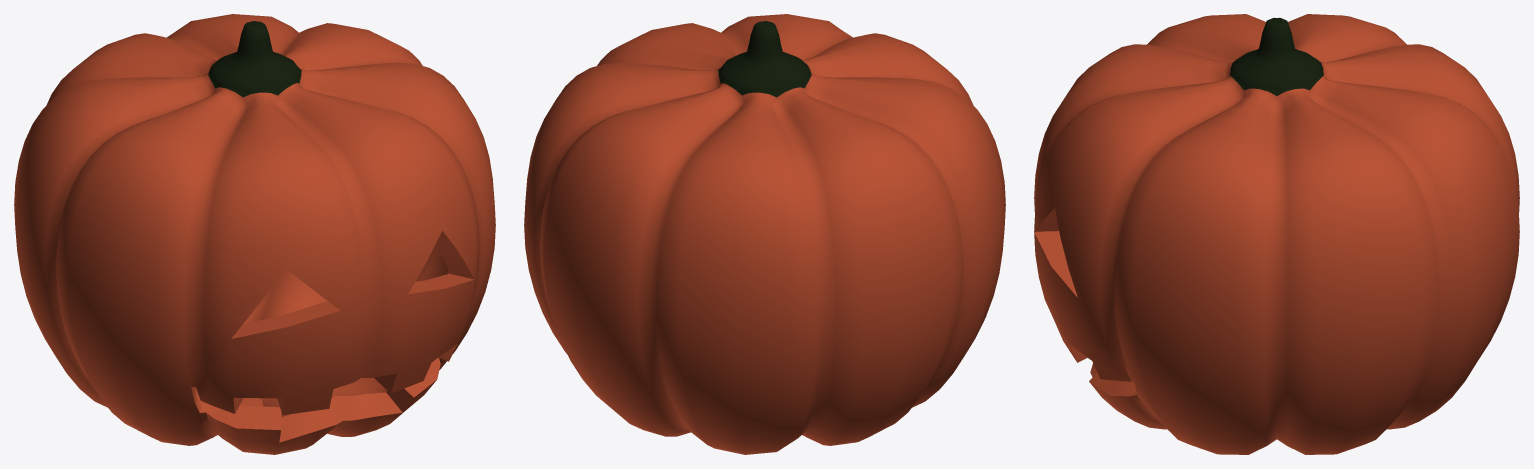
The model's file is pampkin.glb.
The picture shows the model from 3 angles, left to right: view 1: azimuth 30°, elevation 25°; view 2: azimuth 150°, elevation 25°; view 3: azimuth 270°, elevation 25°; orthographic projection.
Parts seen in each view (by area): view 1: Cube; view 2: Cube; view 3: Cube.
Part boxes in pixels (<box>): Cube: <box>14,14,495,454</box>; Cube: <box>524,14,1005,454</box>; Cube: <box>1034,14,1519,454</box>.
Bounding box in the file's own units: 0.2597 × 0.2298 × 0.2597.
